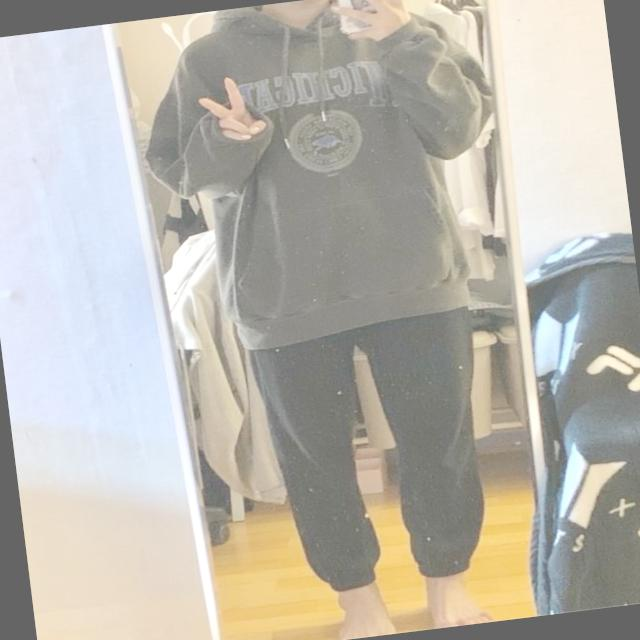hoodies: (134, 0, 525, 363)
slacks: (243, 303, 498, 597)
